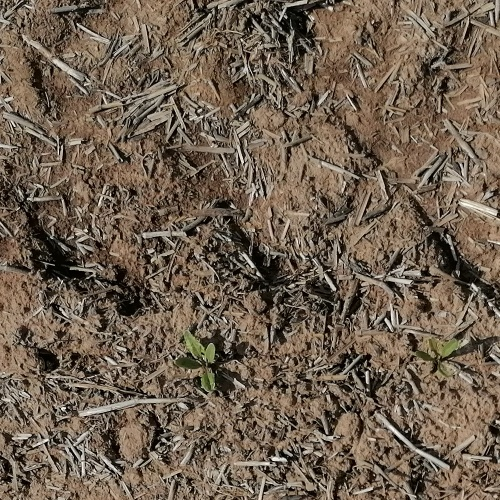beet: (173, 330, 219, 394), (415, 338, 460, 374)
